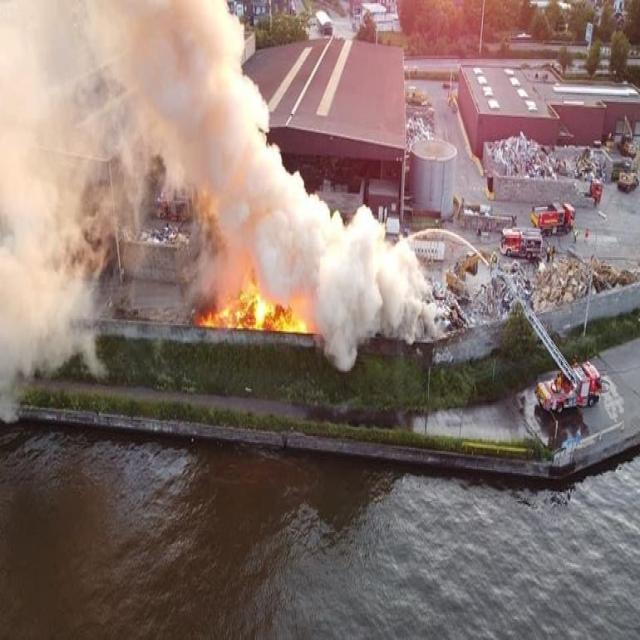fire: (199, 262, 316, 350)
smoke: (2, 5, 454, 378)
